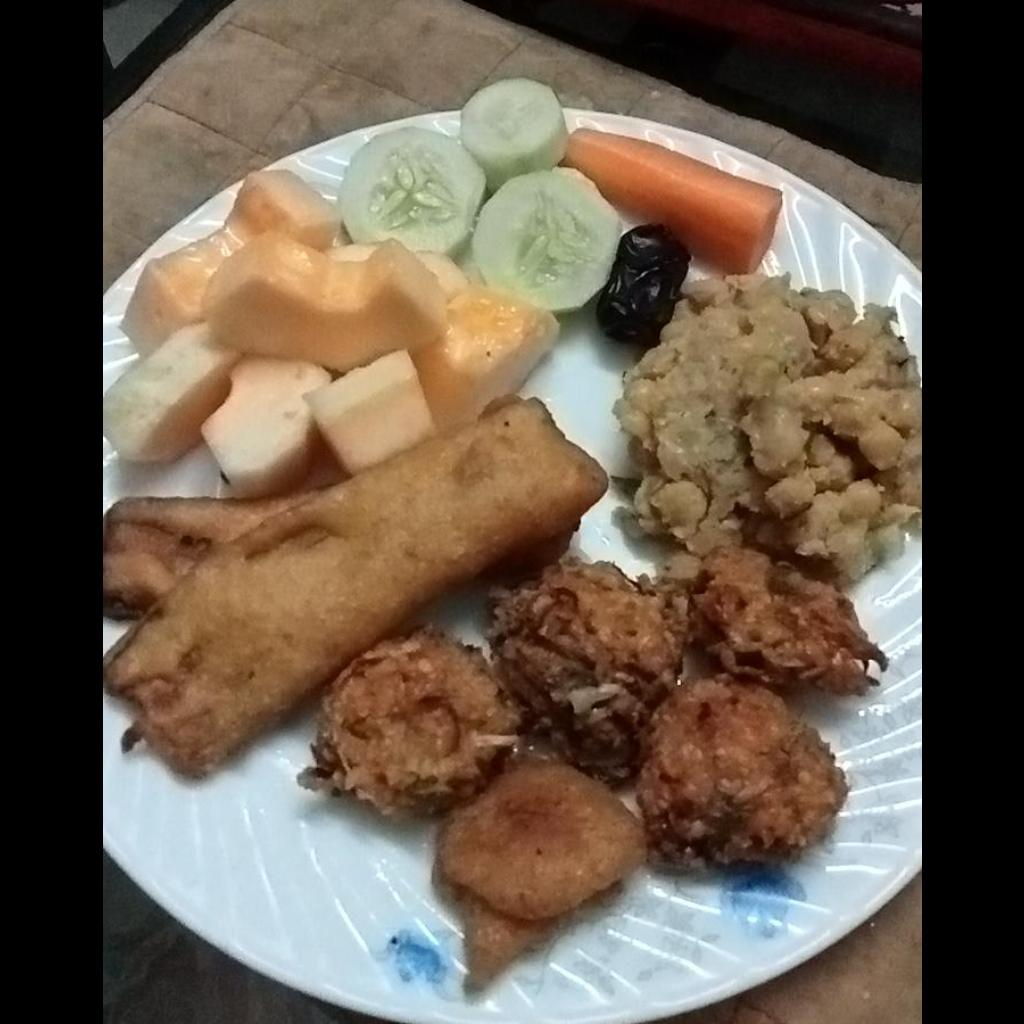beguni: (102, 391, 612, 777)
carrot: (569, 132, 782, 275)
chola: (616, 277, 920, 574)
chop-alu: (435, 760, 641, 998)
cucumber: (342, 79, 619, 311)
dates: (607, 220, 692, 351)
peyaju: (300, 545, 888, 864)
watermelon: (103, 168, 562, 487)
